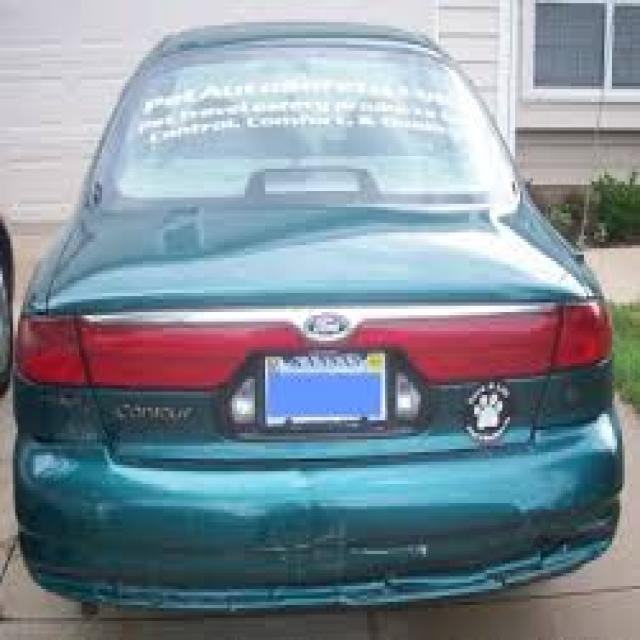moderate: (194, 478, 608, 590)
